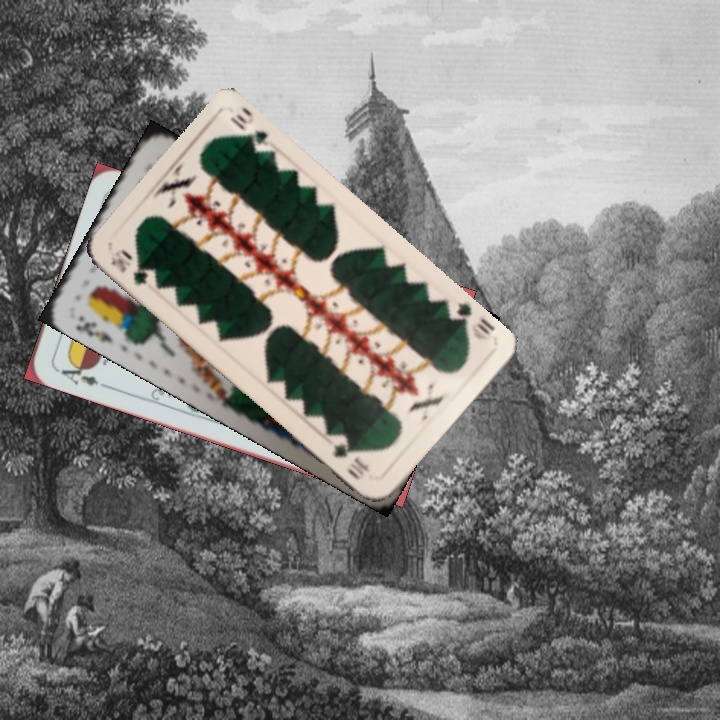EA: (52, 356, 102, 389)
EK: (72, 311, 116, 346)
G10: (443, 298, 497, 343), (106, 246, 151, 288)
